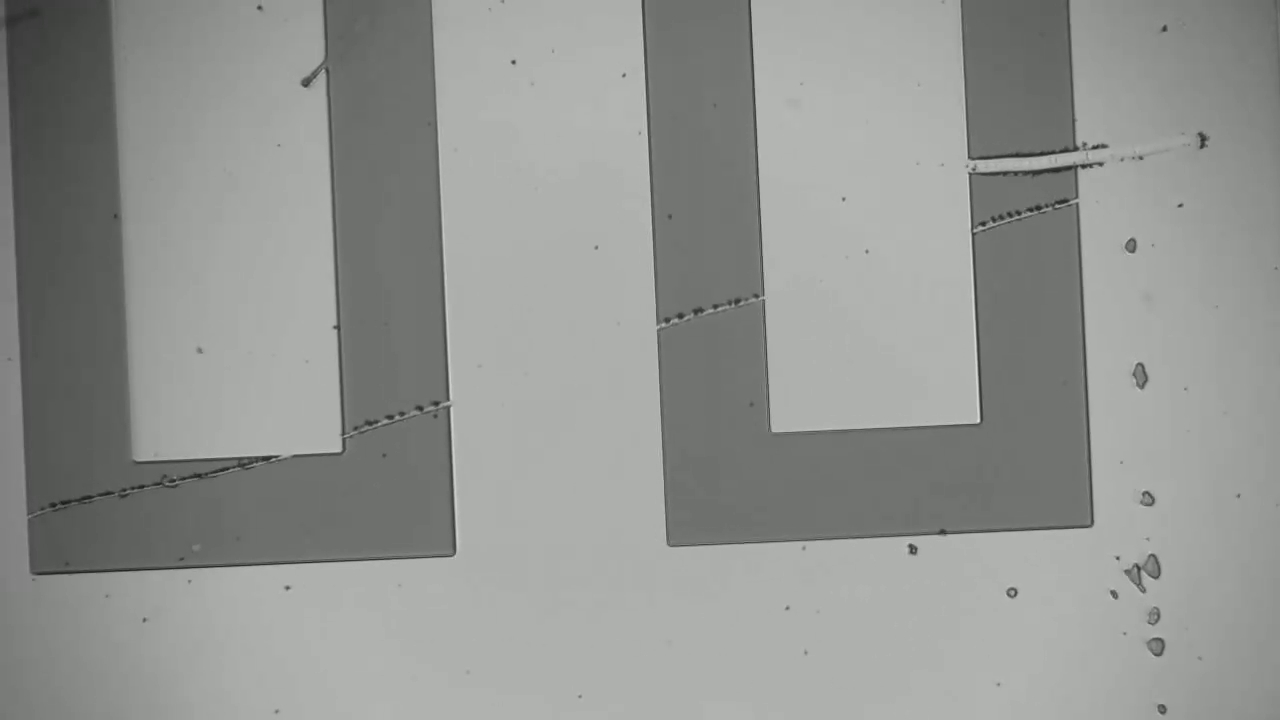Short_circuit: (940, 133, 1104, 195)
scratch: (38, 469, 259, 513), (354, 395, 441, 434), (978, 194, 1073, 229), (662, 290, 756, 323)
